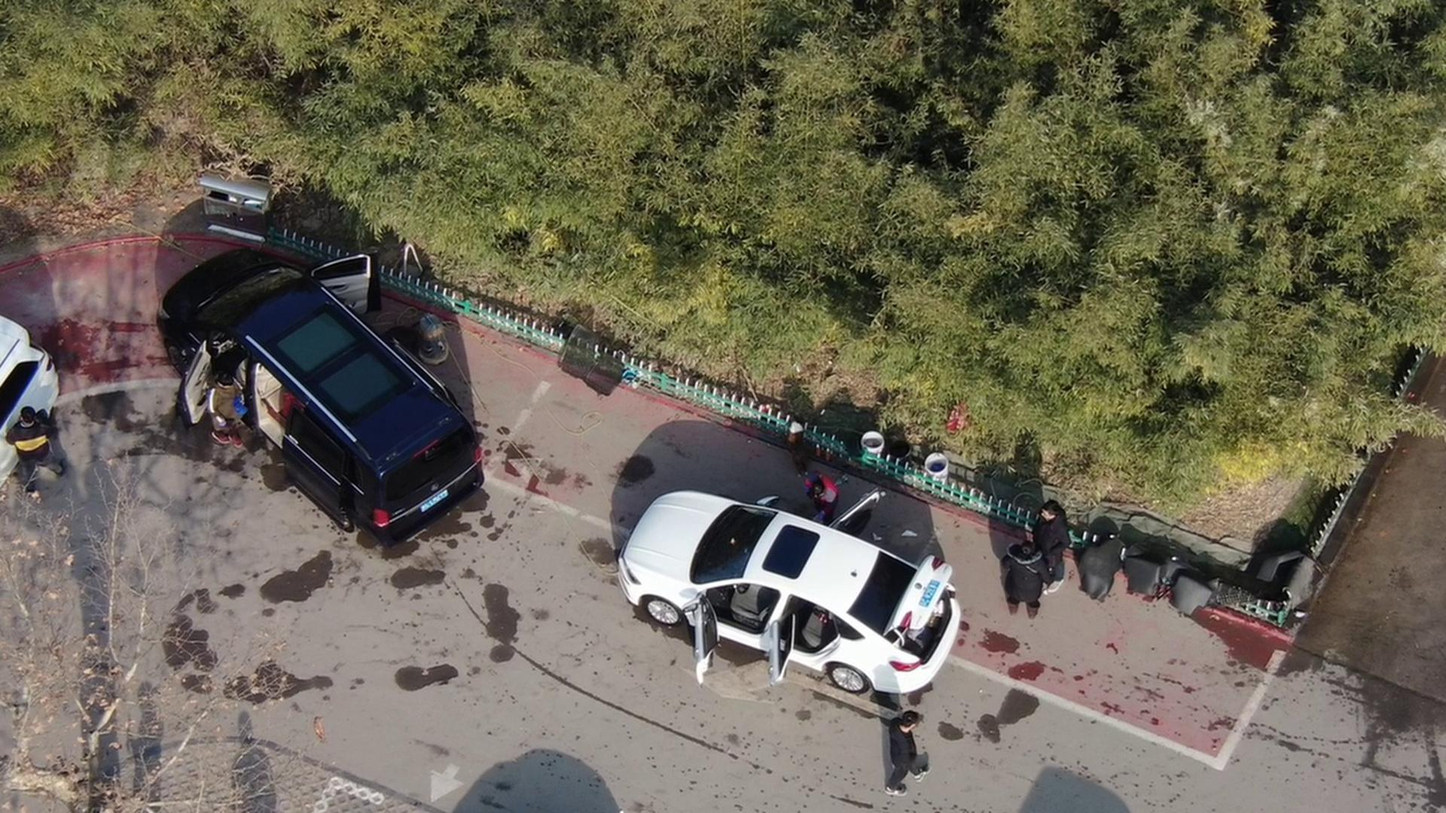human: (14, 405, 78, 500), (999, 534, 1048, 619), (881, 699, 926, 789), (209, 370, 254, 446), (1036, 507, 1069, 592), (800, 473, 841, 523)
